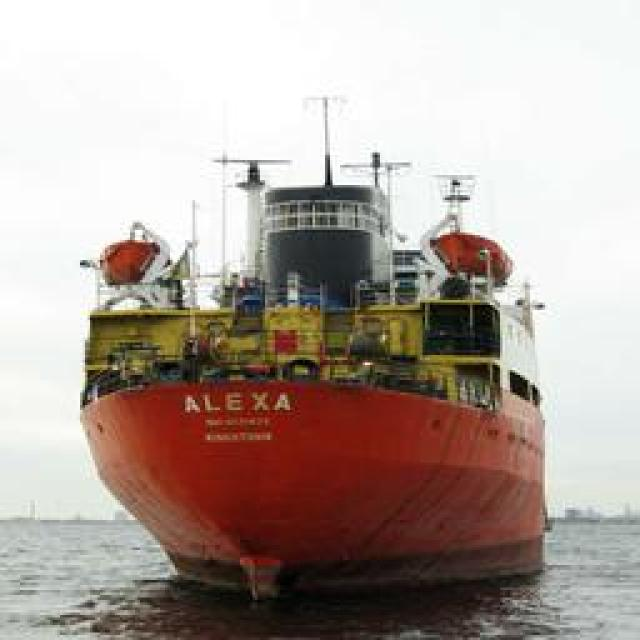ship: (84, 168, 551, 608)
